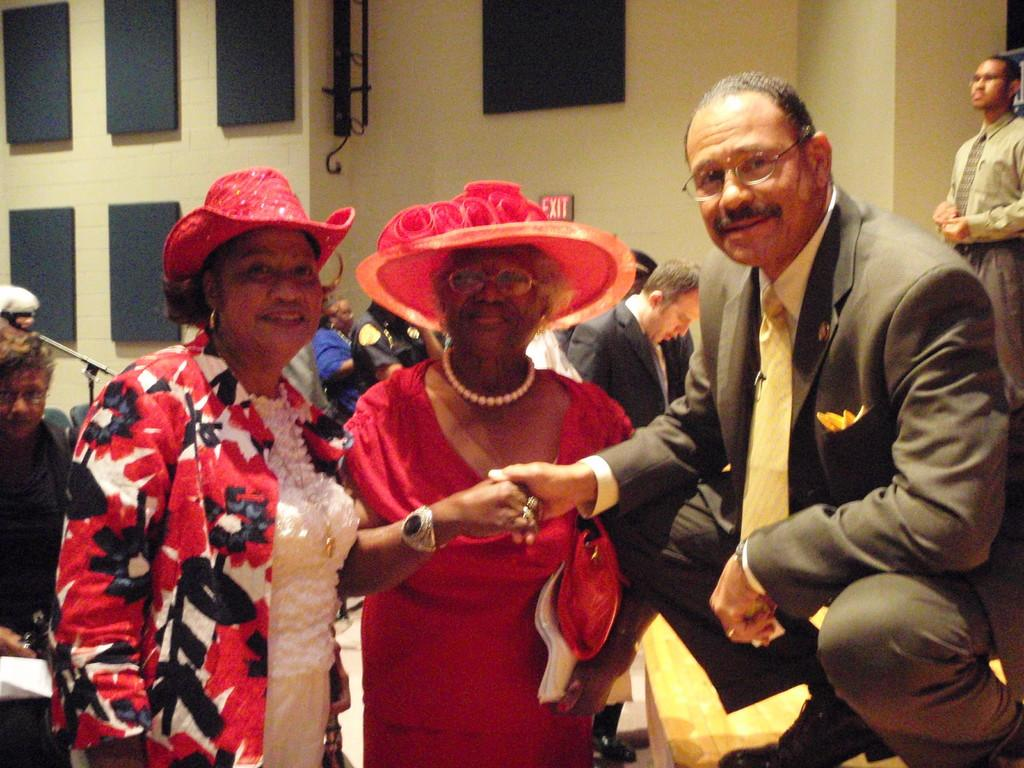Sem Máscara: (688, 110, 811, 270), (220, 223, 324, 350), (438, 241, 547, 355), (0, 367, 47, 440), (649, 291, 699, 349), (962, 58, 1001, 111), (330, 297, 354, 333)
